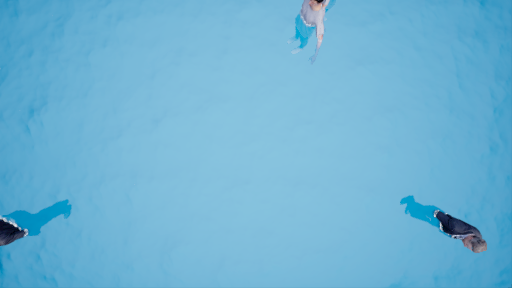person: (383, 190, 490, 258), (1, 194, 77, 250), (286, 1, 340, 69)
